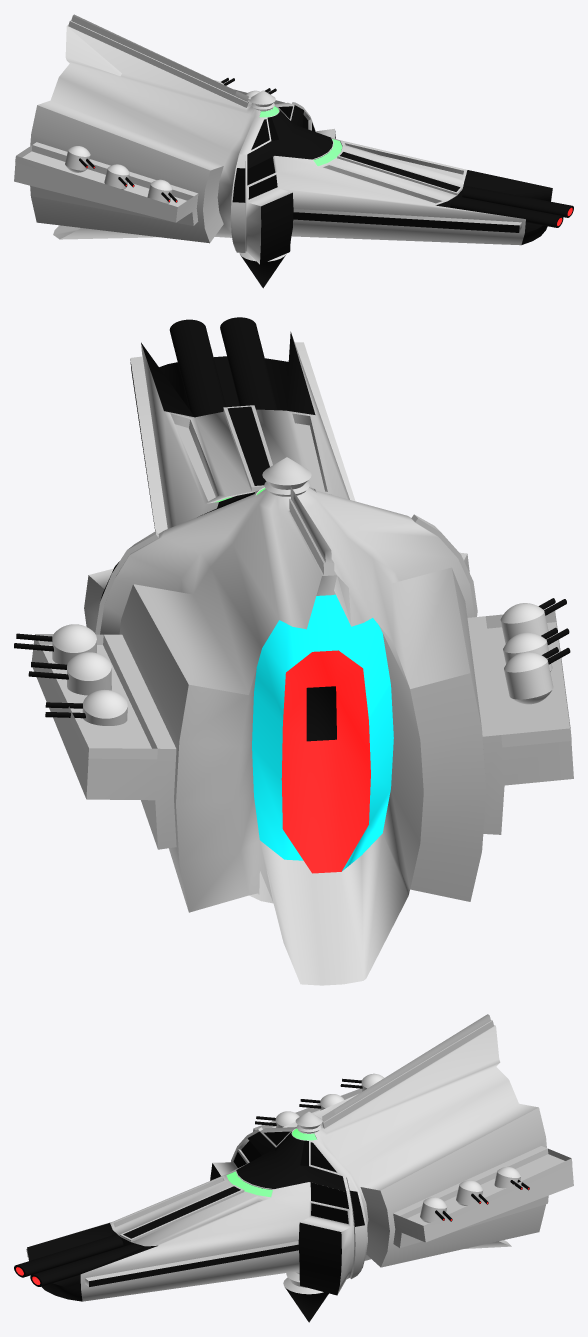
The model's file is double barrel shotgun ship upload.fbx.
The picture shows the model from 3 angles, top to bottom: view 1: azimuth 30°, elevation 25°; view 2: azimuth 150°, elevation 25°; view 3: azimuth 270°, elevation 25°; orthographic projection. The views are drawn at different scales.
Visible parts, largest first — view 1: Sphere, Tube_1, Tube, Oil_Tank_4, Oil_Tank_5, Oil_Tank_6; view 2: Sphere, Tube_1, Tube, Oil_Tank_4, Oil_Tank_2, Oil_Tank, Oil_Tank_3, Oil_Tank_6, Oil_Tank_5; view 3: Sphere, Tube, Tube_1, Oil_Tank_2, Oil_Tank_3, Oil_Tank.
Boxes of the visible parts, x1,y1,x2,y2 form: Sphere: (14,14,552,288); Tube_1: (462,185,573,217); Tube: (450,196,563,227); Oil_Tank_4: (65,146,90,172); Oil_Tank_5: (104,164,129,189); Oil_Tank_6: (147,179,172,203); Sphere: (31,331,573,985); Tube_1: (169,319,225,417); Tube: (220,317,277,410); Oil_Tank_4: (504,652,553,704); Oil_Tank_2: (67,652,111,695); Oil_Tank: (82,689,127,725); Oil_Tank_3: (52,624,96,664); Oil_Tank_6: (500,603,549,643); Oil_Tank_5: (503,632,552,671); Sphere: (26,1014,573,1322); Tube: (14,1234,123,1277); Tube_1: (30,1244,142,1286); Oil_Tank_2: (456,1180,483,1205); Oil_Tank_3: (420,1197,447,1222); Oil_Tank: (494,1166,520,1188).
Bounding box in the file's own units: 690 × 408 × 818.
